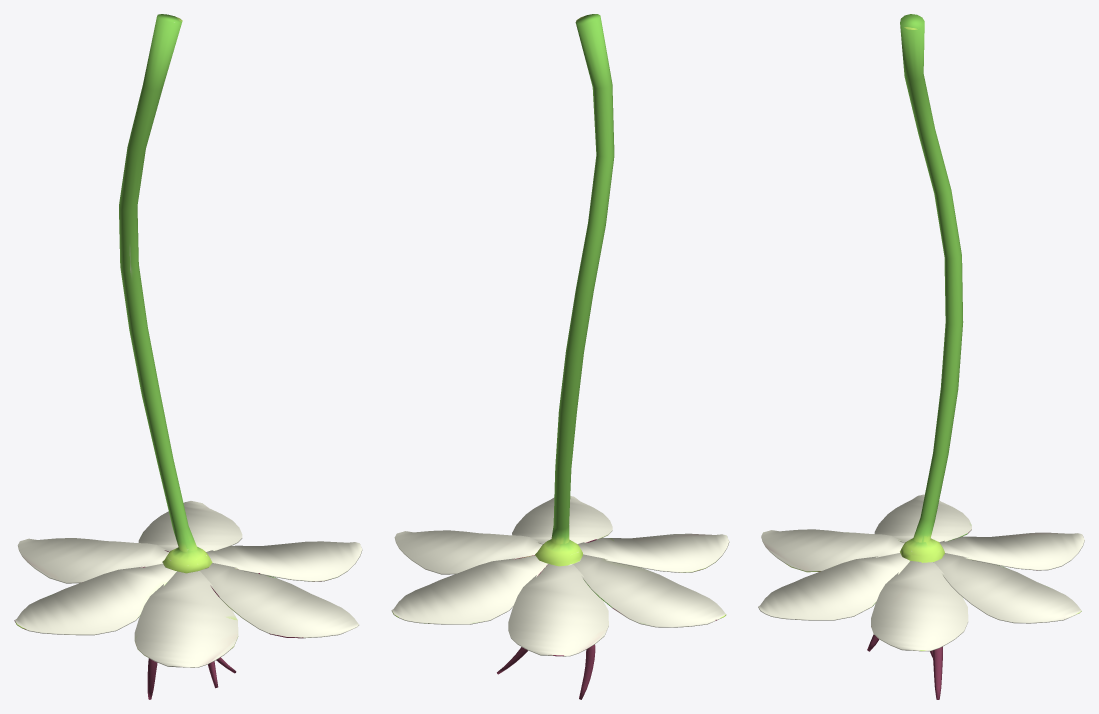
File: Flor1.fbx
The picture shows the model from 3 angles, left to right: view 1: azimuth 30°, elevation 25°; view 2: azimuth 150°, elevation 25°; view 3: azimuth 270°, elevation 25°; orthographic projection. The views are drawn at different scales.
Parts seen in each view (by area): view 1: Cylinder.003; view 2: Cylinder.003; view 3: Cylinder.003.
Boxes of the visible parts, x1,y1,x2,y2 form: Cylinder.003: [14, 14, 362, 699]; Cylinder.003: [391, 14, 729, 699]; Cylinder.003: [758, 14, 1084, 699].
Size of the model in its own units: 360 by 700 by 319.
1 material, 1 textured.
